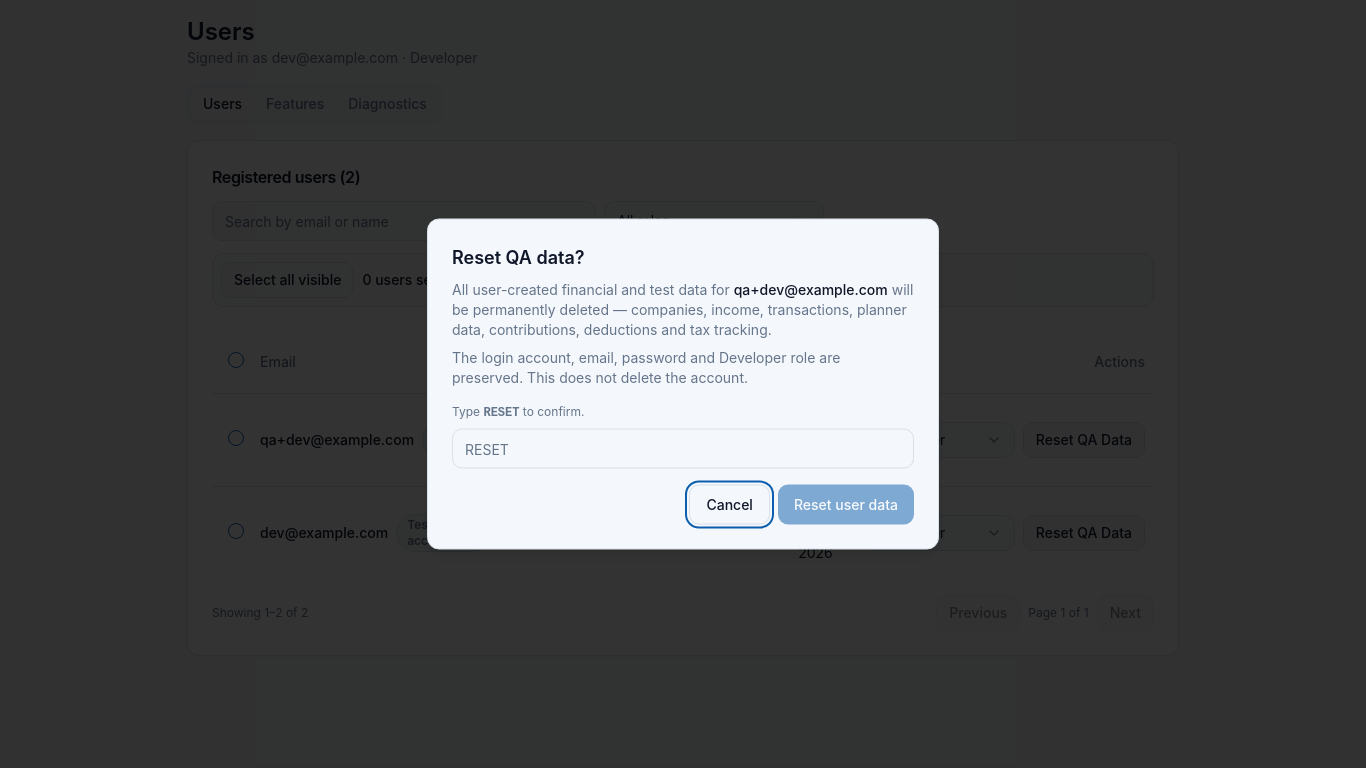
Admin → Reset QA Data › requires typing RESET before the reset button is enabled
Earlier steps of the test are not shown.
Expected: the button with test id "reset-qa-confirm-button" is disabled, x1=778 y1=484 x2=914 y2=524
Expected: the dialog with test id "reset-qa-dialog" shows "qa+dev@example.com", x1=734 y1=280 x2=888 y2=298
Type "reset" into the field with test id "reset-qa-confirm-input" at (683, 448), box x1=452 y1=428 x2=914 y2=468
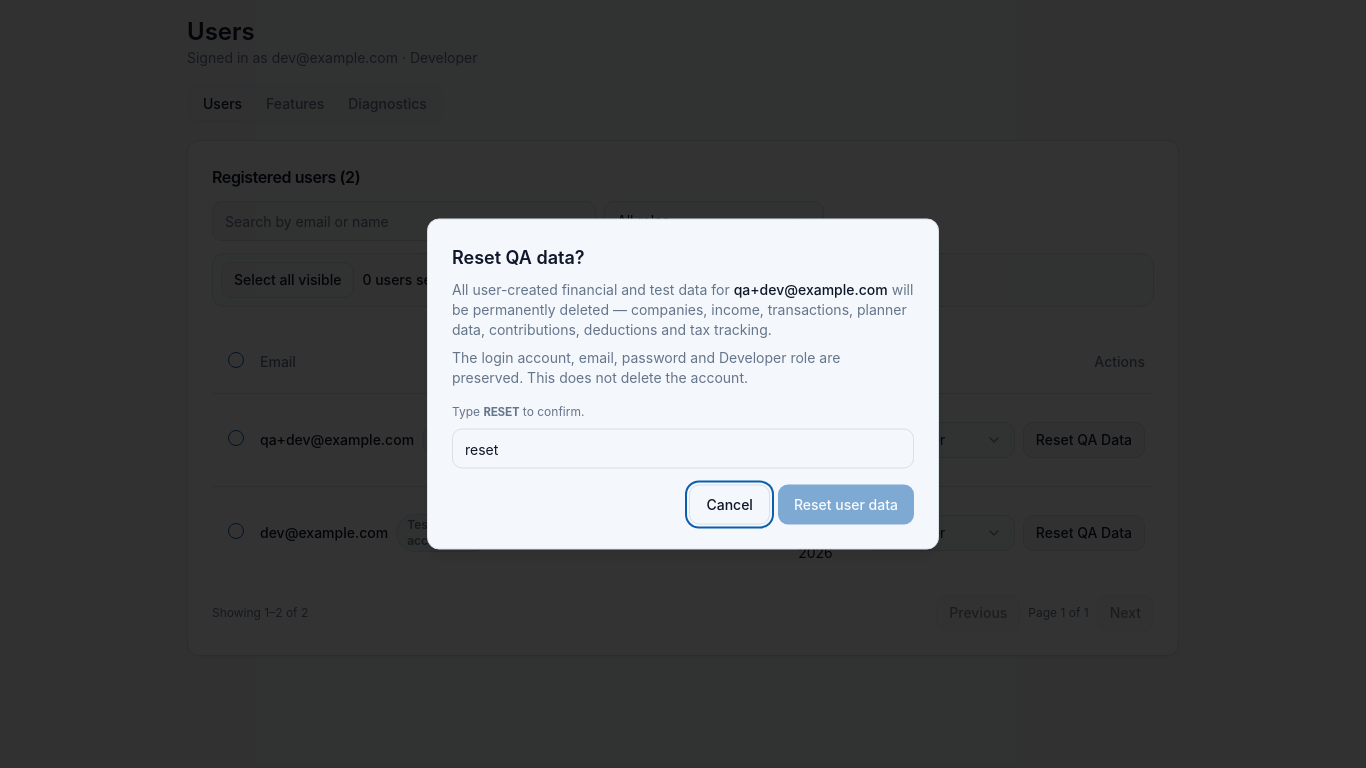
Expected: the button with test id "reset-qa-confirm-button" is disabled, x1=778 y1=484 x2=914 y2=524
Replace the text in the field with test id "reset-qa-confirm-input" with "RESET" at (683, 448), box x1=452 y1=428 x2=914 y2=468
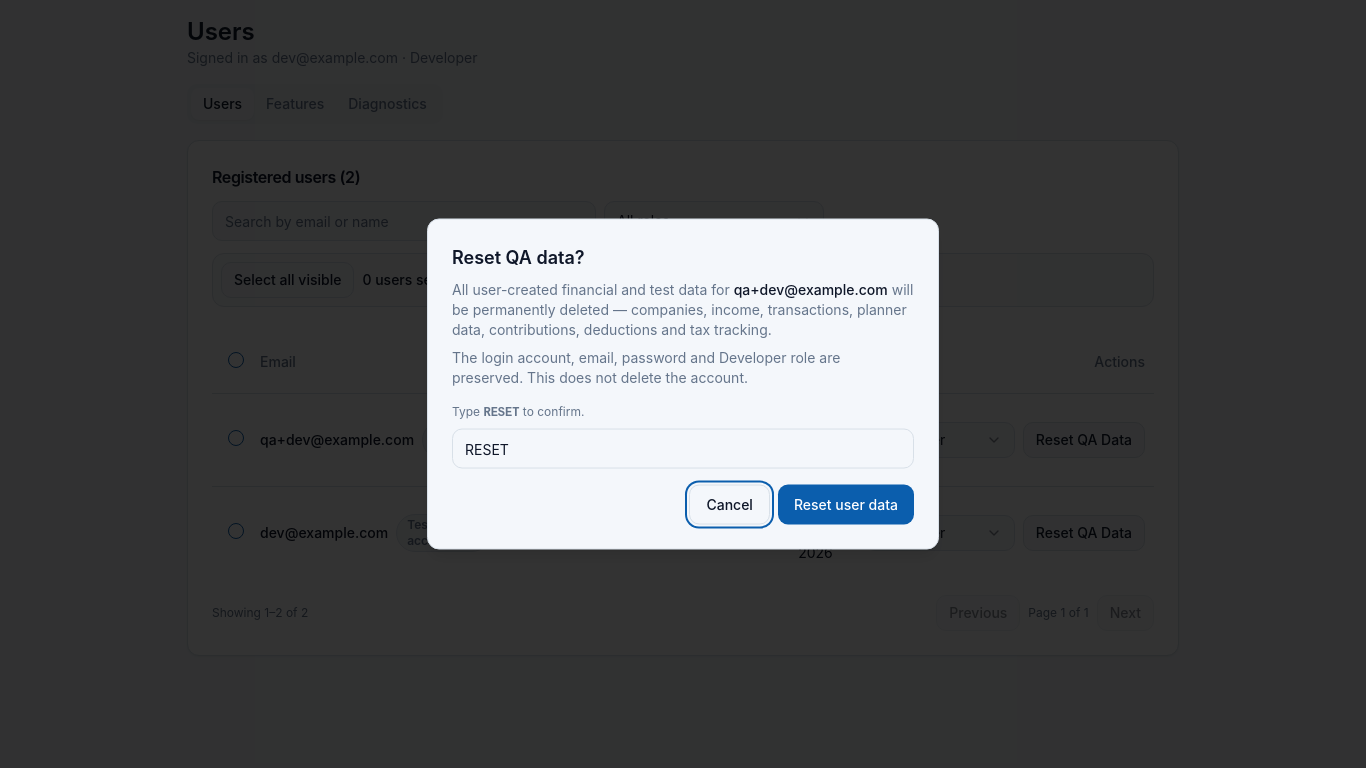
Expected: the button with test id "reset-qa-confirm-button" is enabled, x1=778 y1=484 x2=914 y2=524
